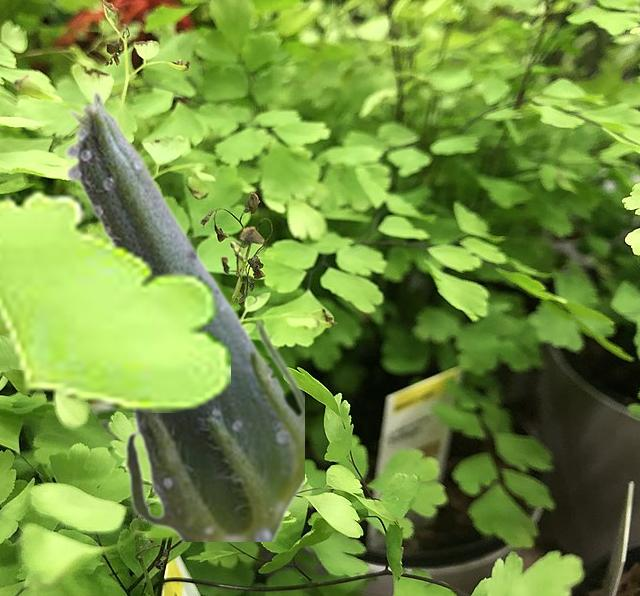okra: (63, 90, 303, 540)
